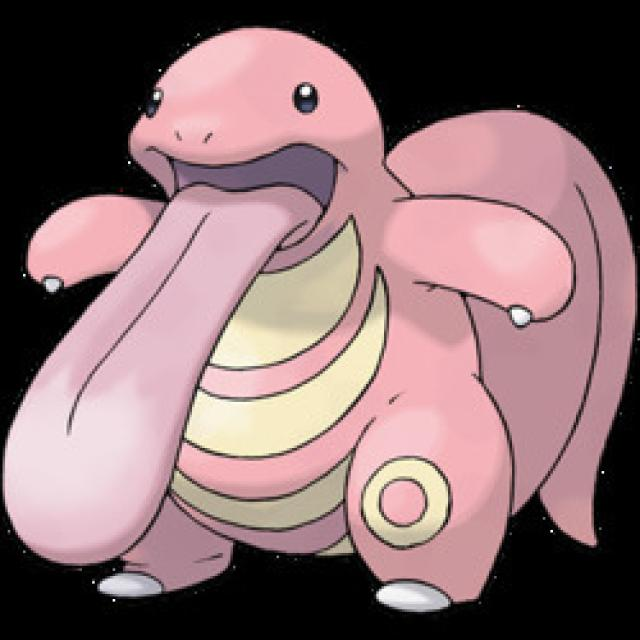Lickitung: (49, 25, 578, 604)
